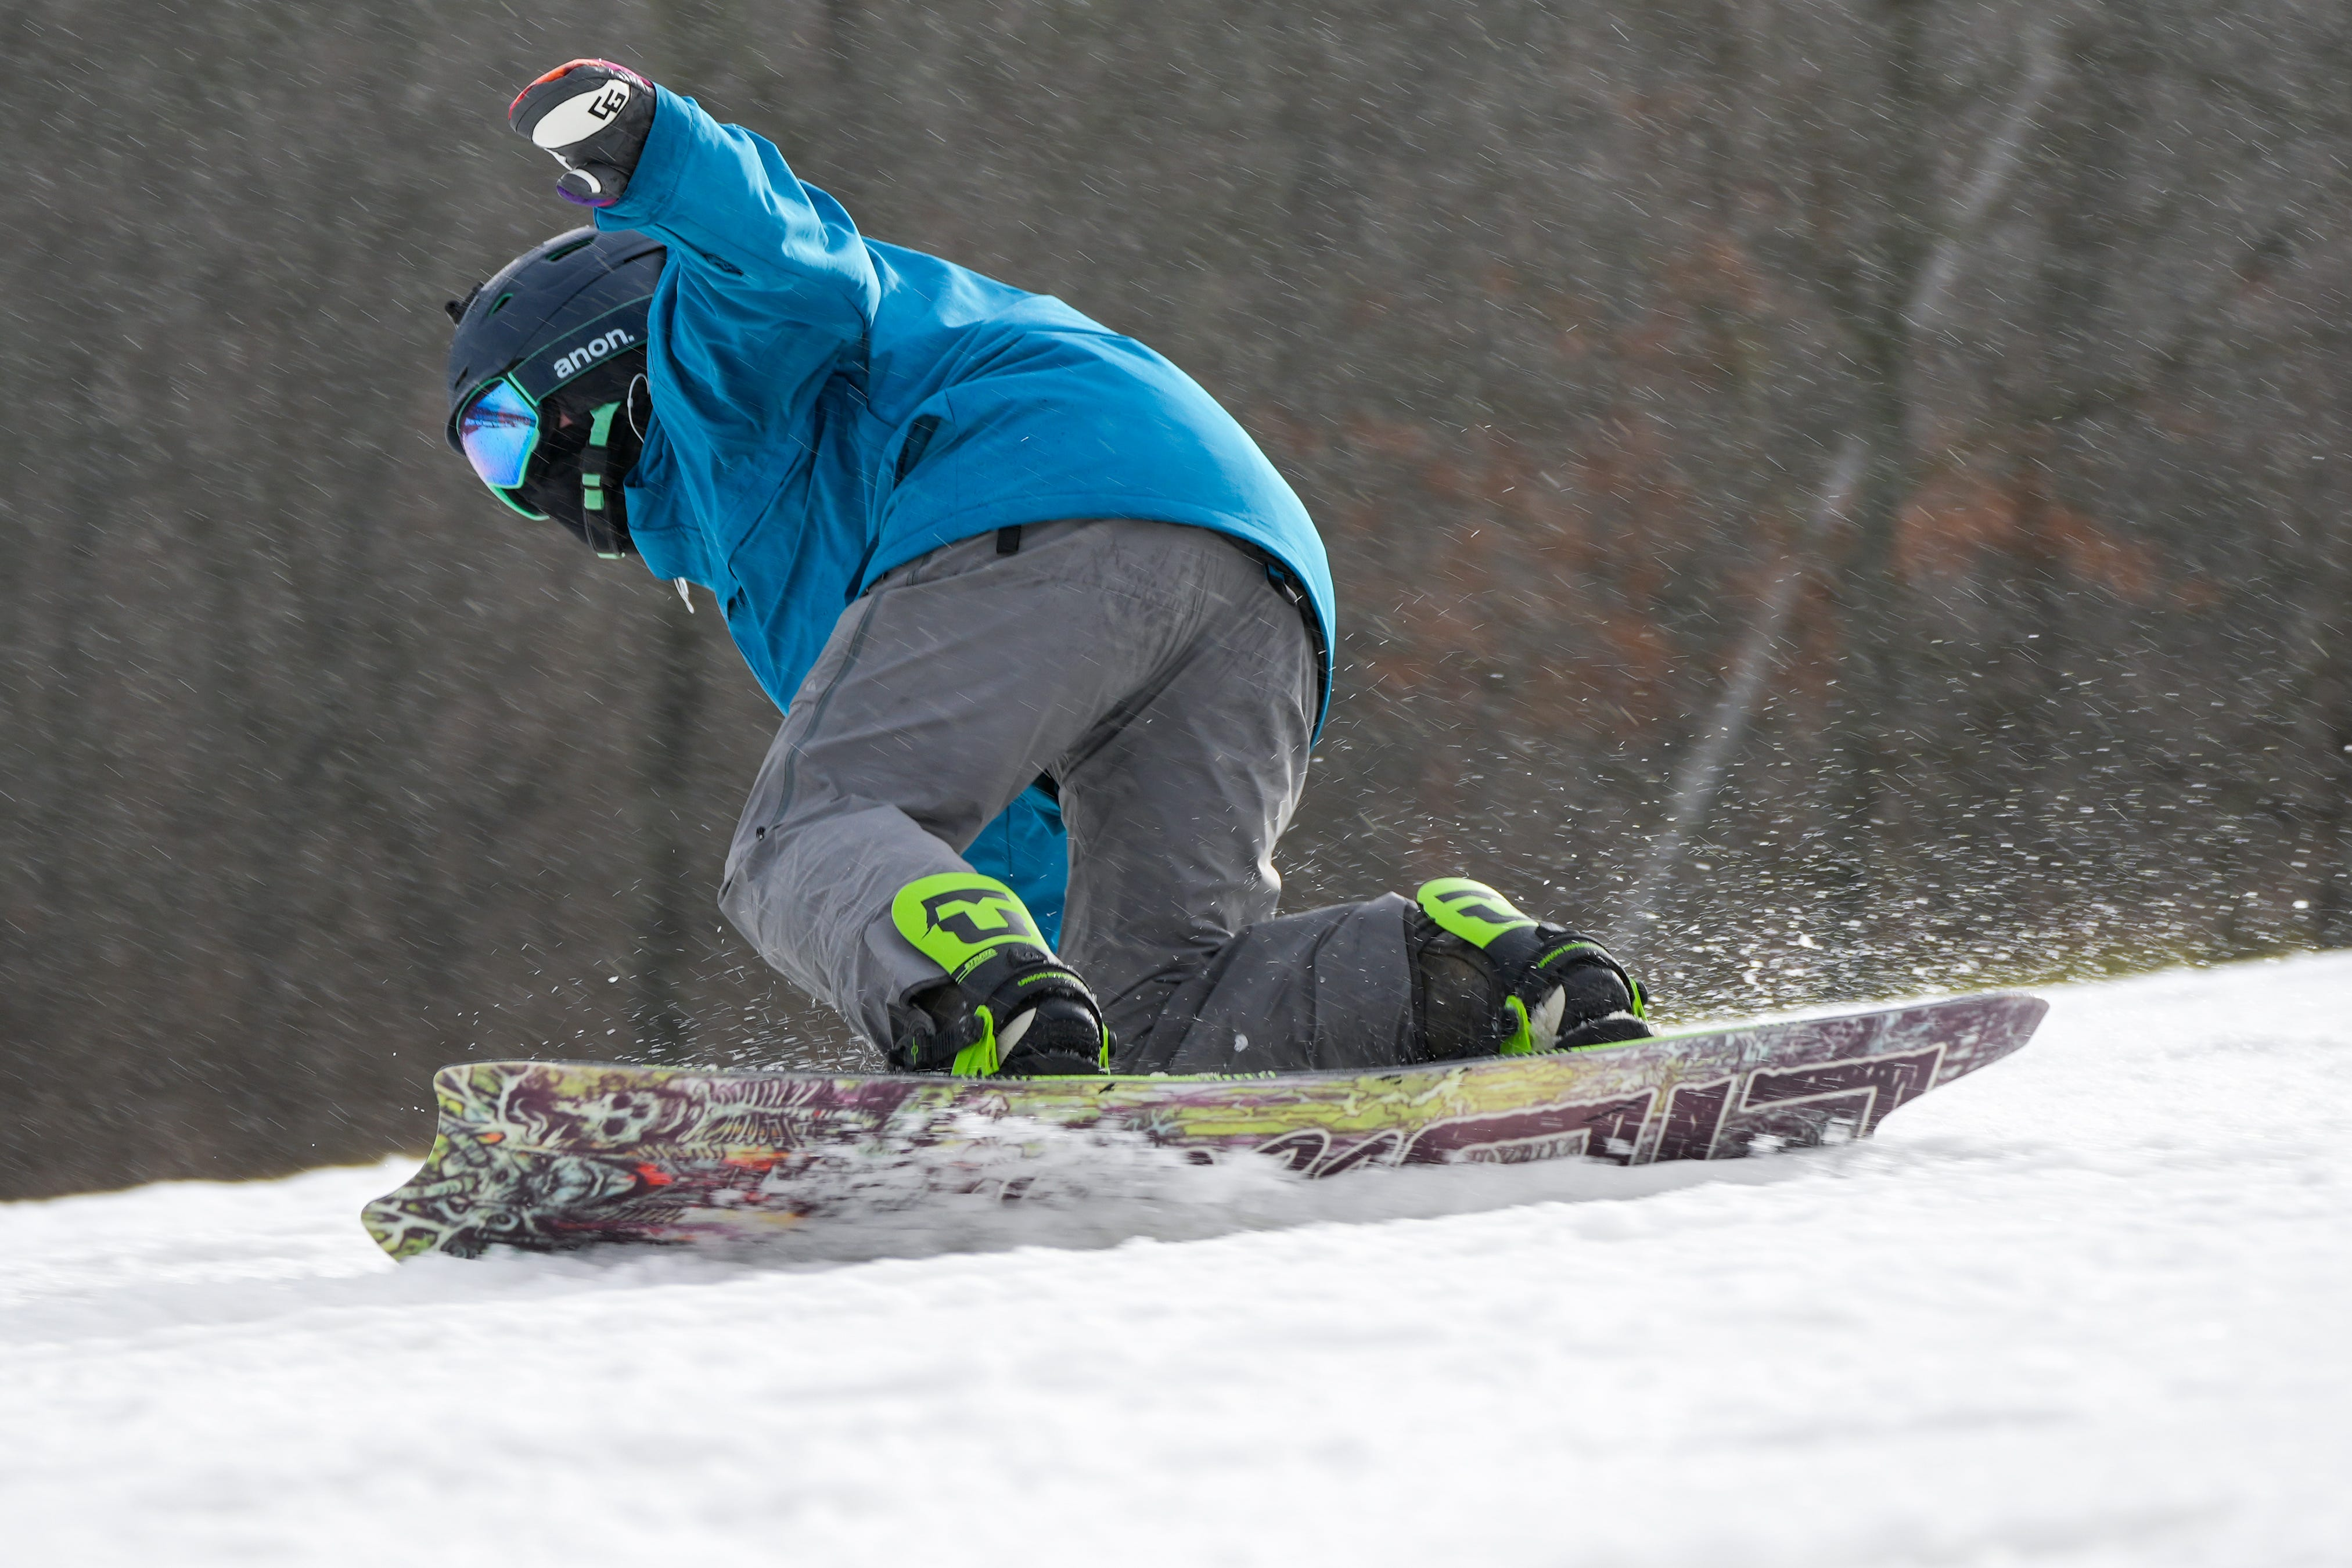snowboarder: (340, 51, 2060, 1269)
